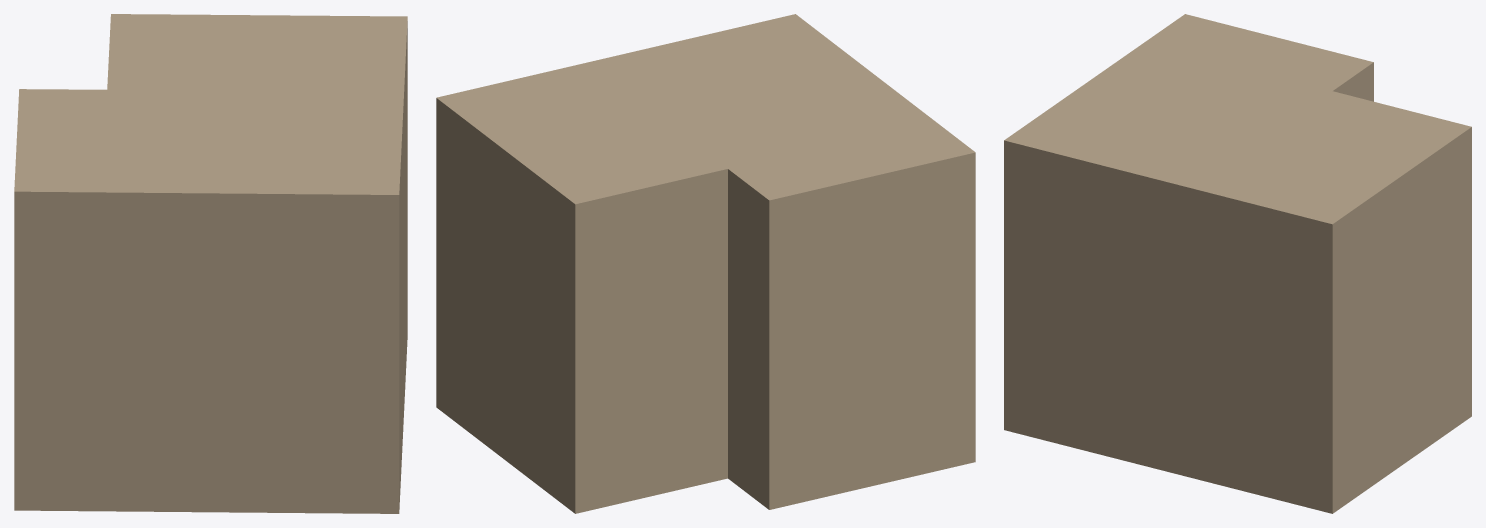
File: bld_101353618.dae
3 views of the same model, side by side, from view 1: azimuth 30°, elevation 25°; view 2: azimuth 150°, elevation 25°; view 3: azimuth 270°, elevation 25° (orthographic). The views are drawn at different scales.
Parts seen in each view (by area): view 1: bld_101353618; view 2: bld_101353618; view 3: bld_101353618.
Boxes of the visible parts, x1=… form: bld_101353618: x1=14, y1=14, x2=407, y2=513; bld_101353618: x1=436, y1=14, x2=975, y2=513; bld_101353618: x1=1004, y1=14, x2=1471, y2=513.
Bounding box in the file's own units: 12.46 × 11.71 × 8.
